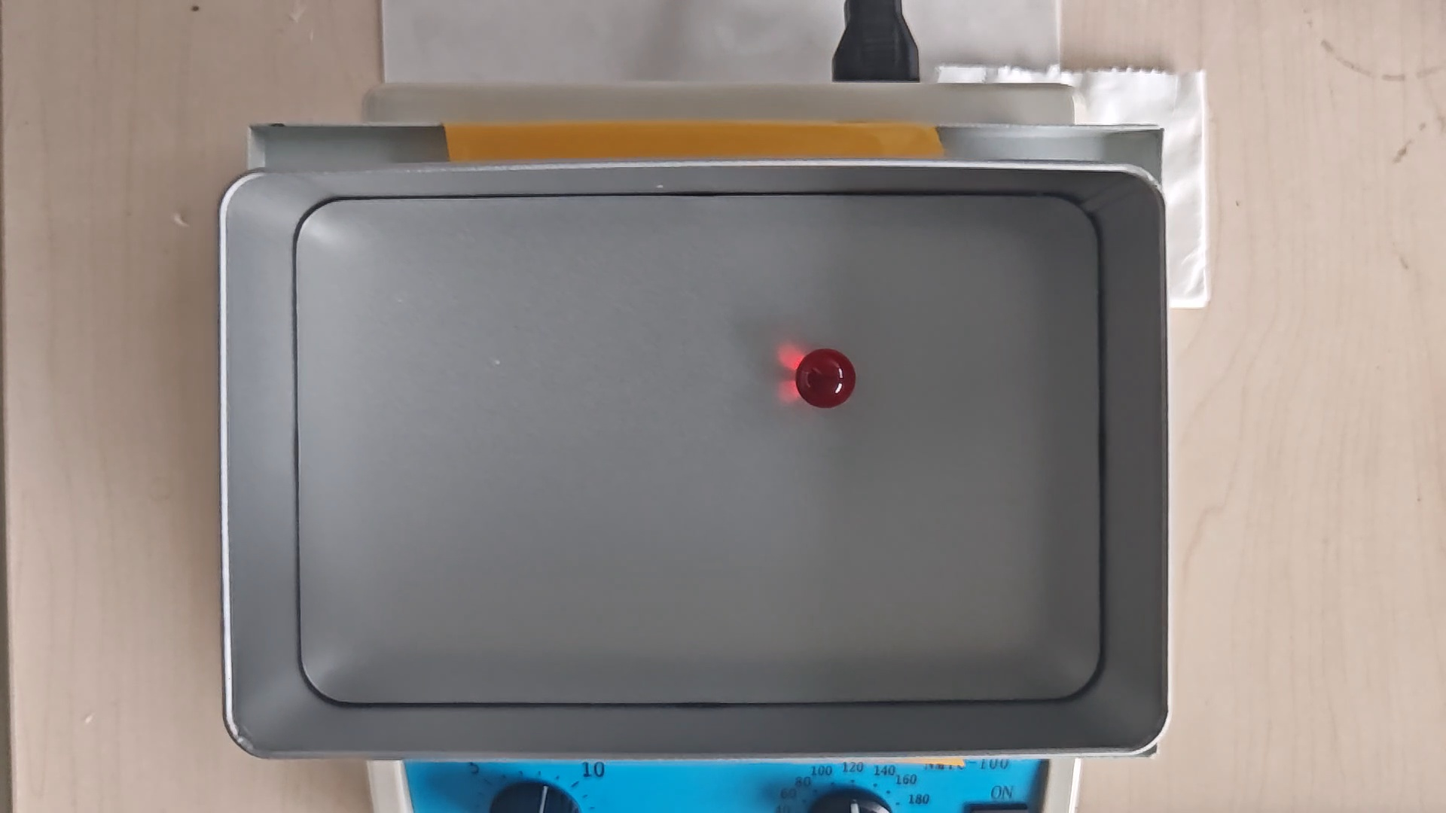ball: (796, 349, 858, 409)
container: (294, 196, 1103, 705)
